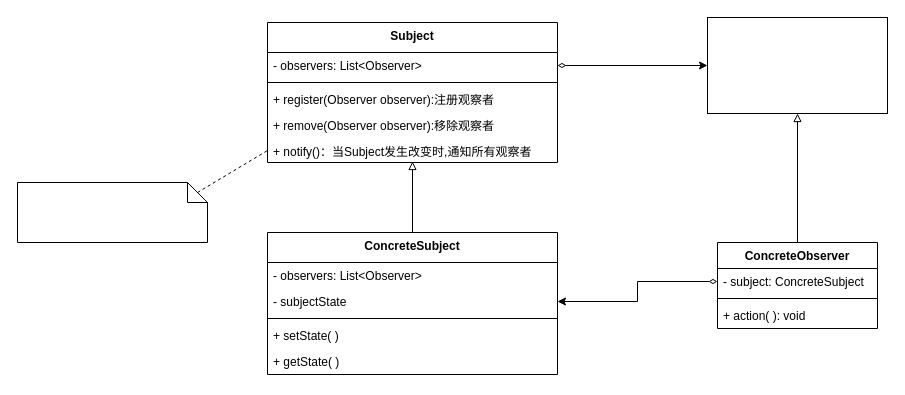
Image size: 905x395. Some labels were removed from this diagram. The centre of each missing label's shape, as x and y in pixels:
"<<Interface>> Observer + action( ): void" belongs at (797,65).
"for(Observer observer){ observer.action(); }" belongs at (112,212).
